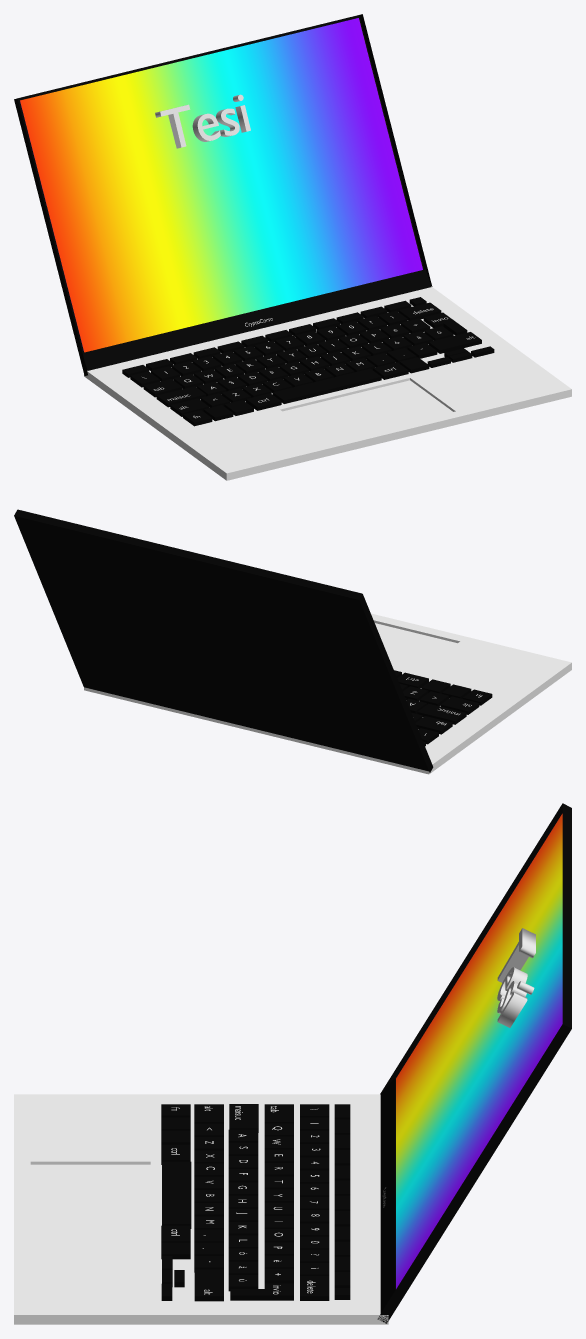
File: tesi.glb
3 renders of one model, top to bottom at view 1: azimuth 30°, elevation 25°; view 2: azimuth 150°, elevation 25°; view 3: azimuth 270°, elevation 25°, orthographic. The views are drawn at different scales.
Visible parts, largest first — view 1: Cube.073, Cube, Cube.074, Cube.001, GN Instance, Cube.072, Cube.123; view 2: Cube.001, Cube, Cube.065, Cube.064, Cube.066, Cube.071; view 3: Cube, Cube.073, Cube.001, Cube.074, GN Instance, Cube.072, Cube.123, Cube.065, Cube.027.
Boxes of the visible parts, x1,y1,x2,y2 form: Cube.073: (20, 18, 422, 352); Cube: (84, 286, 571, 480); Cube.074: (82, 269, 431, 370); Cube.001: (14, 14, 432, 375); GN Instance: (155, 94, 250, 148); Cube.072: (272, 368, 381, 403); Cube.123: (428, 332, 481, 353); Cube.001: (14, 509, 433, 772); Cube: (84, 613, 571, 774); Cube.065: (417, 703, 466, 724); Cube.064: (440, 696, 479, 714); Cube.066: (415, 716, 452, 734); Cube.071: (397, 672, 428, 688); Cube: (14, 1094, 388, 1324); Cube.073: (396, 813, 562, 1288); Cube.001: (377, 803, 571, 1323); Cube.074: (380, 1077, 396, 1313); GN Instance: (497, 928, 535, 1027); Cube.072: (162, 1161, 191, 1228); Cube.123: (194, 1269, 223, 1301); Cube.065: (229, 1104, 258, 1132); Cube.027: (300, 1276, 329, 1300).
Bounding box in the file's own units: 6.79 × 4.31 × 7.25.
5 materials, 1 textured.
